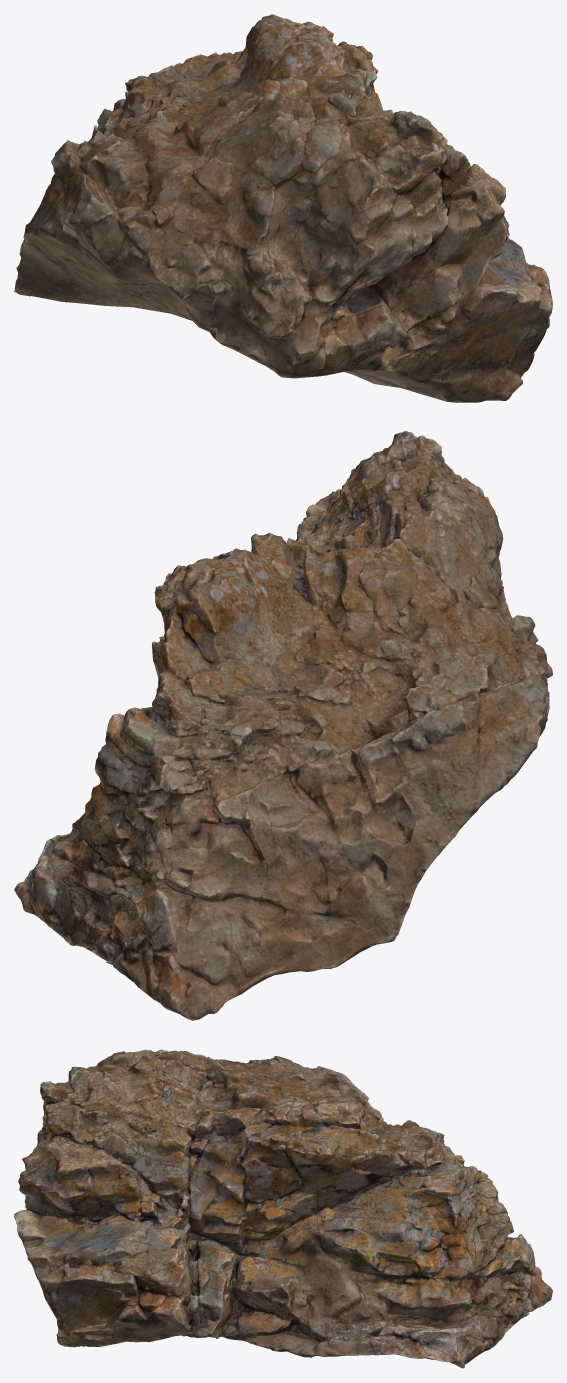
Rendered from boulder.glb.
The picture shows the model from 3 angles, top to bottom: view 1: azimuth 30°, elevation 25°; view 2: azimuth 150°, elevation 25°; view 3: azimuth 270°, elevation 25°; orthographic projection. The views are drawn at different scales.
Parts seen in each view (by area): view 1: boulder_01; view 2: boulder_01; view 3: boulder_01.
Boxes of the visible parts, x1,y1,x2,y2 form: boulder_01: (14,14,552,402); boulder_01: (14,431,552,1020); boulder_01: (14,1049,552,1368).
Bounding box in the file's own units: 1.27 × 1 × 1.83.
1 material, 1 textured.
